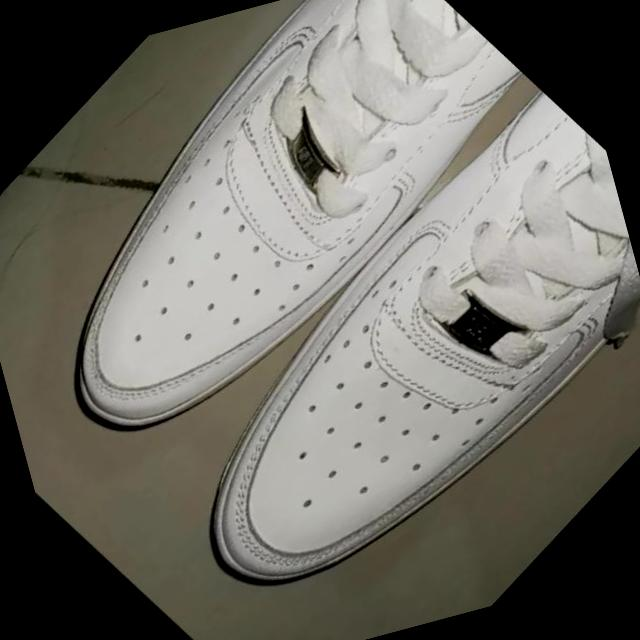nike_fake_airforce: (68, 68, 640, 640), (0, 0, 608, 515)
